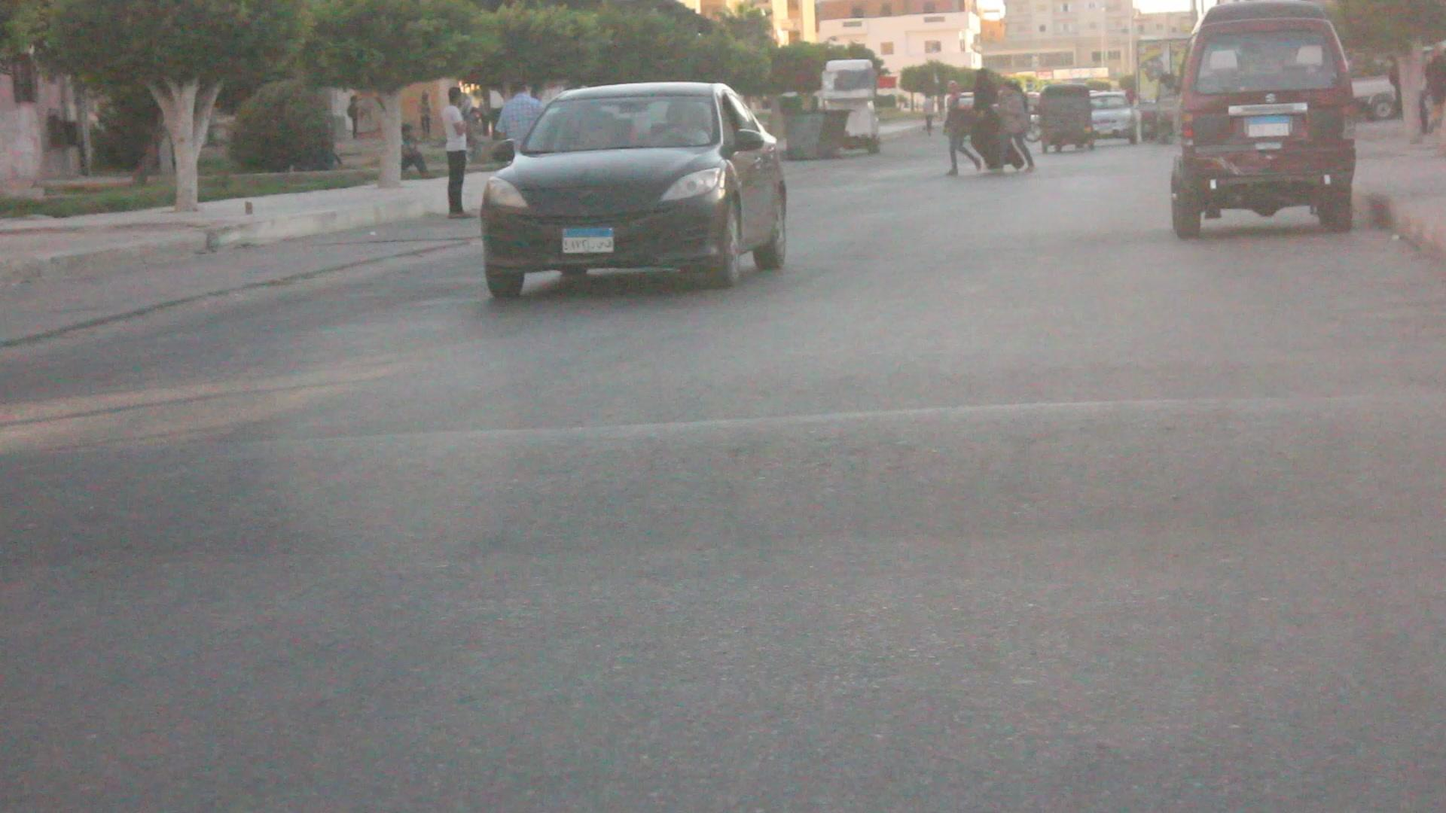Bump: (0, 418, 1446, 587)
